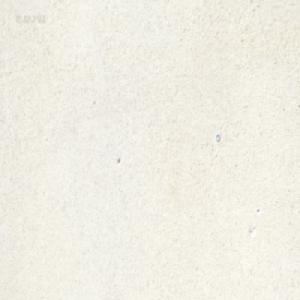Washer: (215, 132, 220, 142)
